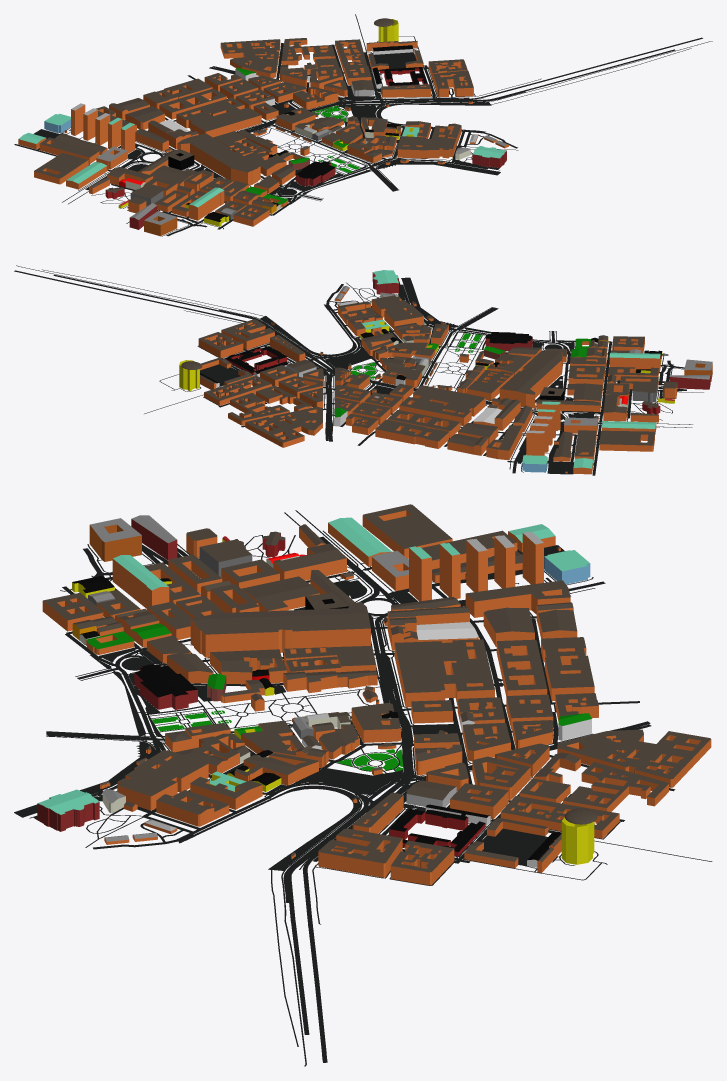
The model's file is Stockholm.obj.
3 views of the same model, one above another, from view 1: azimuth 30°, elevation 25°; view 2: azimuth 150°, elevation 25°; view 3: azimuth 270°, elevation 25° (orthographic). The views are drawn at different scales.
Parts seen in each view (by area): view 1: map_20.osm_buildings, map_20.osm_areas_pedestrian, map_20.osm_paths_footway, map_20.osm_roads_unclassified, map_20.osm_roads_tertiary, map_20.osm_paths_cycleway, map_20.osm_roads_pedestrian, map_20.osm_vegetation, map_20.osm_roads_residential; view 2: map_20.osm_buildings, map_20.osm_areas_pedestrian, map_20.osm_paths_footway, map_20.osm_roads_unclassified, map_20.osm_roads_tertiary, map_20.osm_roads_pedestrian, map_20.osm_paths_cycleway, map_20.osm_vegetation, map_20.osm_roads_secondary; view 3: map_20.osm_buildings, map_20.osm_areas_pedestrian, map_20.osm_paths_footway, map_20.osm_roads_unclassified, map_20.osm_roads_tertiary, map_20.osm_roads_pedestrian, map_20.osm_paths_cycleway, map_20.osm_vegetation, map_20.osm_roads_residential.
Boxes of the visible parts, x1,y1,x2,y2 form: map_20.osm_buildings: (18, 18, 508, 236); map_20.osm_areas_pedestrian: (34, 52, 500, 204); map_20.osm_paths_footway: (41, 14, 691, 236); map_20.osm_roads_unclassified: (85, 37, 702, 220); map_20.osm_roads_tertiary: (135, 66, 525, 226); map_20.osm_paths_cycleway: (62, 41, 712, 204); map_20.osm_roads_pedestrian: (14, 43, 484, 229); map_20.osm_vegetation: (313, 106, 359, 172); map_20.osm_roads_residential: (137, 52, 435, 165); map_20.osm_buildings: (179, 270, 712, 474); map_20.osm_areas_pedestrian: (200, 277, 593, 474); map_20.osm_paths_footway: (42, 269, 703, 473); map_20.osm_roads_unclassified: (14, 270, 662, 462); map_20.osm_roads_tertiary: (219, 307, 674, 463); map_20.osm_roads_pedestrian: (206, 304, 668, 475); map_20.osm_paths_cycleway: (16, 265, 692, 428); map_20.osm_vegetation: (350, 333, 481, 379); map_20.osm_roads_secondary: (512, 360, 686, 473); map_20.osm_buildings: (37, 504, 711, 885); map_20.osm_areas_pedestrian: (14, 545, 564, 870); map_20.osm_paths_footway: (19, 530, 712, 1046); map_20.osm_roads_unclassified: (92, 536, 570, 1062); map_20.osm_roads_tertiary: (46, 572, 651, 902); map_20.osm_roads_pedestrian: (62, 549, 675, 855); map_20.osm_paths_cycleway: (46, 510, 423, 1066); map_20.osm_vegetation: (152, 710, 403, 771); map_20.osm_roads_residential: (175, 616, 571, 863).
Size of what is drawn, in the model's own units: 43.6 by 1.62 by 23.15.
